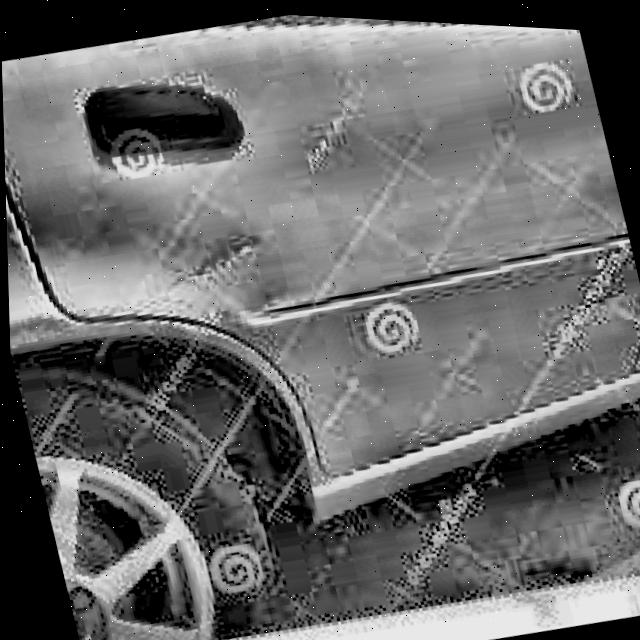door_scratch: (225, 206, 639, 357)
